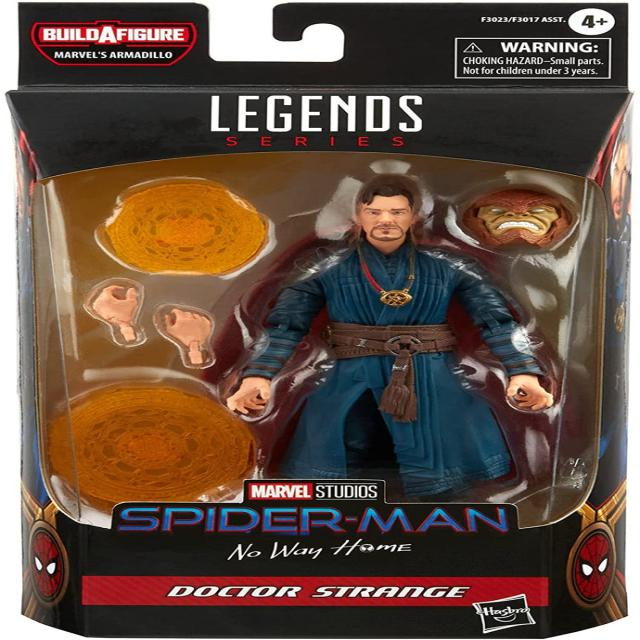doctor_strange: (253, 158, 570, 516)
